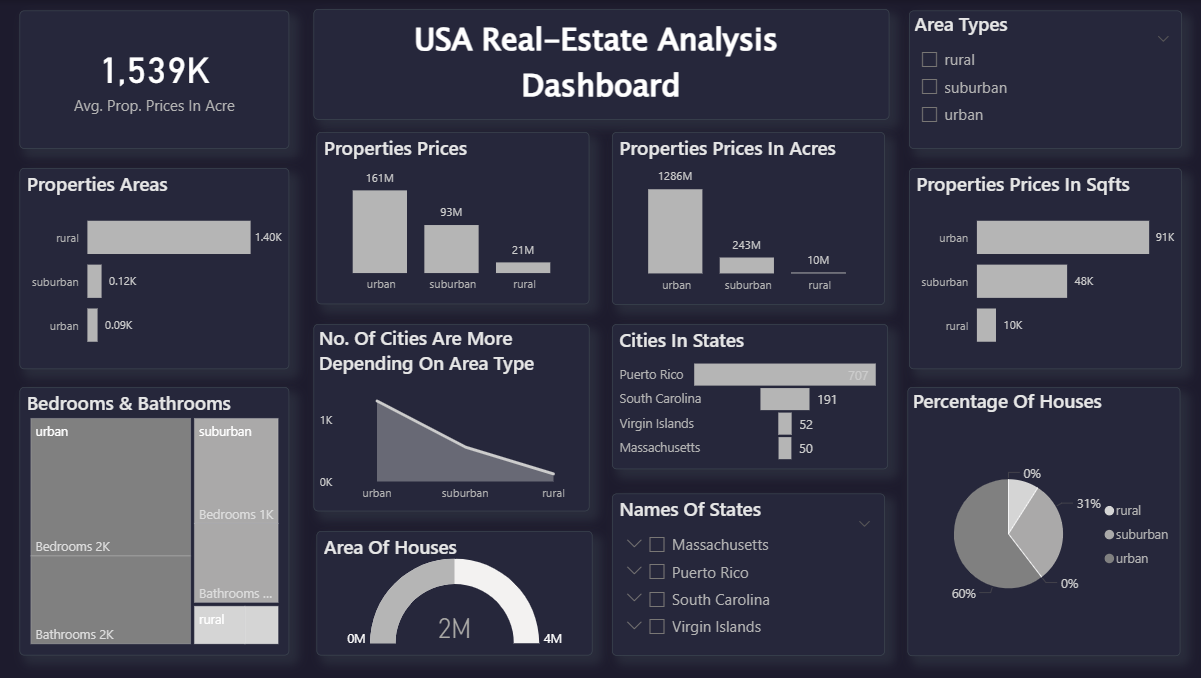

The page's visual inventory and layout, read from the dashboard file:
{"tool":"powerbi","page":{"name":"Page 1","canvas":[1280,720],"ordinal":0},"visuals":[{"type":"pieChart","title":"Percentage Of Houses","fields":{"Category":["Sheet1.area_type"],"Y":["Count(Sheet1.area_type)","Sum(Sheet1.house_size)"]},"box":[969.5,410.1,289.1,285.4],"z":0},{"type":"textbox","box":[338.3,9.4,610.4,117.2],"z":1000},{"type":"columnChart","title":"Properties Prices","fields":{"Category":["Sheet1.area_type"],"Y":["Sum(Sheet1.price)"]},"box":[342,140,289.5,182.9],"z":2000},{"type":"treemap","title":"Bedrooms & Bathrooms","fields":{"Group":["Sheet1.area_type"],"Values":["Sum(Sheet1.bed)","Sum(Sheet1.bath)"]},"box":[27,410.4,286.3,284.7],"z":3000},{"type":"card","fields":{"Values":["Avg(Sheet1.price_per_acre)"]},"box":[27,11.1,286.3,146.3],"z":4000},{"type":"clusteredBarChart","title":"Properties Areas","fields":{"Category":["Sheet1.area_type"],"Y":["Sum(Sheet1.acre_lot)"]},"box":[27,178.1,286.3,213.1],"z":5000},{"type":"columnChart","title":"Properties Prices In Acres","fields":{"Category":["Sheet1.area_type"],"Y":["Sum(Sheet1.price_per_acre)"]},"box":[655.8,139.8,289.1,183.3],"z":6000},{"type":"clusteredBarChart","title":"Properties Prices In Sqfts","fields":{"Category":["Sheet1.area_type"],"Y":["Sum(Sheet1.price_per_sqft)"]},"box":[970.3,178.1,289.5,213.1],"z":7000},{"type":"gauge","title":"Area Of Houses","fields":{"Y":["Sum(Sheet1.house_size)"]},"box":[342,563.2,292.9,132.3],"z":8000},{"type":"areaChart","title":"No. Of Cities Are More Depending On Area Type","fields":{"Category":["Sheet1.area_type"],"Y":["CountNonNull(Sheet1.city)"]},"box":[338.3,343.9,292.9,198.4],"z":9000},{"type":"funnel","title":"Cities In States","fields":{"Y":["CountNonNull(Sheet1.city)"],"Category":["Sheet1.state"]},"box":[655.3,343.6,292.7,154.3],"z":10000},{"type":"slicer","title":"Names Of States","fields":{"Values":["Sheet1.state","Sheet1.city"]},"box":[655.3,523.3,289.5,171.8],"z":11000},{"type":"slicer","title":"Area Types","fields":{"Values":["Sheet1.area_type"]},"box":[970.3,11.1,289.5,146.3],"z":12000}]}

Visuals, with their boxes in screenshot pixels (x1, y1, x2, y2), scaled from the page's 1280x720 canvas onto the 1201x678 screenshot:
"Percentage Of Houses" pieChart: rect(910, 386, 1181, 655)
textbox: rect(317, 9, 890, 119)
"Properties Prices" columnChart: rect(321, 132, 593, 304)
"Bedrooms & Bathrooms" treemap: rect(25, 386, 294, 655)
card - Avg(Sheet1.price_per_acre): rect(25, 10, 294, 148)
"Properties Areas" clusteredBarChart: rect(25, 168, 294, 368)
"Properties Prices In Acres" columnChart: rect(615, 132, 887, 304)
"Properties Prices In Sqfts" clusteredBarChart: rect(910, 168, 1182, 368)
"Area Of Houses" gauge: rect(321, 530, 596, 655)
"No. Of Cities Are More Depending On Area Type" areaChart: rect(317, 324, 592, 511)
"Cities In States" funnel: rect(615, 324, 889, 469)
"Names Of States" slicer: rect(615, 493, 886, 655)
"Area Types" slicer: rect(910, 10, 1182, 148)
